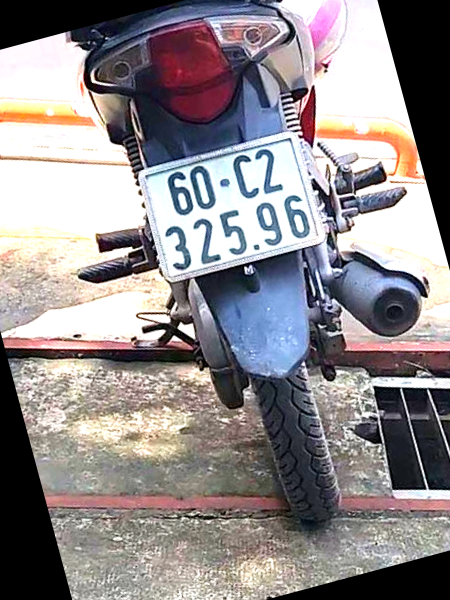number: (140, 136, 319, 275)
